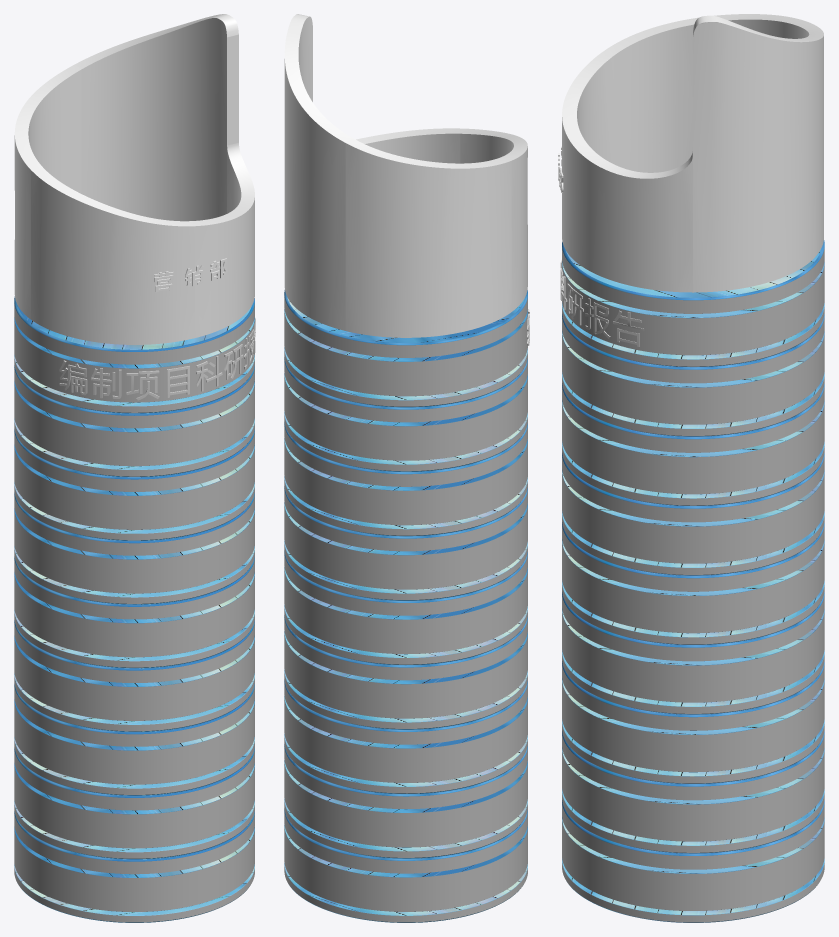
The model's file is 营销部.FBX.
The picture shows the model from 3 angles, left to right: view 1: azimuth 30°, elevation 25°; view 2: azimuth 150°, elevation 25°; view 3: azimuth 270°, elevation 25°; orthographic projection. The views are drawn at different scales.
Parts seen in each view (by area): view 1: Obj_000631, Obj_847, Obj_851, Obj_850, Obj_845, Obj_848, Obj_846, Obj_849, Obj_852, Obj_844, Text001; view 2: Obj_000631, Obj_844, Obj_846, Obj_849, Obj_852, Obj_851, Obj_850, Obj_845, Obj_847, Obj_848; view 3: Obj_000631, Obj_844, Obj_847, Obj_849, Obj_851, Obj_845, Obj_848, Obj_852, Obj_846, Obj_850, Text001.
Boxes of the visible parts, x1,y1,x2,y2 form: Obj_000631: (14, 14, 254, 344); Obj_847: (14, 492, 254, 604); Obj_851: (14, 747, 254, 859); Obj_850: (14, 684, 254, 795); Obj_845: (14, 365, 254, 476); Obj_848: (14, 556, 254, 668); Obj_846: (14, 429, 254, 540); Obj_849: (14, 620, 254, 731); Obj_852: (14, 811, 254, 922); Obj_844: (14, 296, 254, 413); Text001: (59, 317, 255, 400); Obj_000631: (284, 14, 527, 337); Obj_844: (284, 290, 527, 407); Obj_846: (284, 422, 527, 536); Obj_849: (284, 615, 527, 729); Obj_852: (284, 808, 527, 922); Obj_851: (284, 744, 527, 858); Obj_850: (284, 679, 527, 793); Obj_845: (284, 357, 527, 471); Obj_847: (284, 486, 527, 600); Obj_848: (284, 550, 527, 665); Obj_000631: (562, 14, 823, 292); Obj_844: (562, 240, 824, 367); Obj_847: (562, 453, 824, 575); Obj_849: (562, 592, 824, 714); Obj_851: (562, 731, 824, 853); Obj_845: (562, 314, 824, 436); Obj_848: (562, 522, 824, 644); Obj_852: (562, 800, 824, 922); Obj_846: (562, 383, 824, 505); Obj_850: (562, 661, 824, 783); Text001: (560, 260, 644, 346).
Size of the model in its own units: 35.29 by 134 by 35.79.
